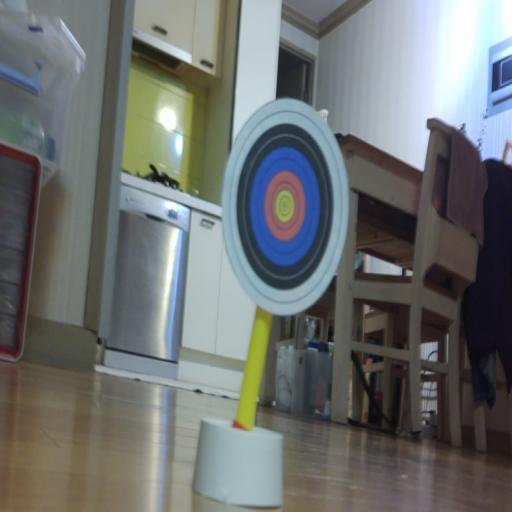target: (222, 98, 349, 314)
